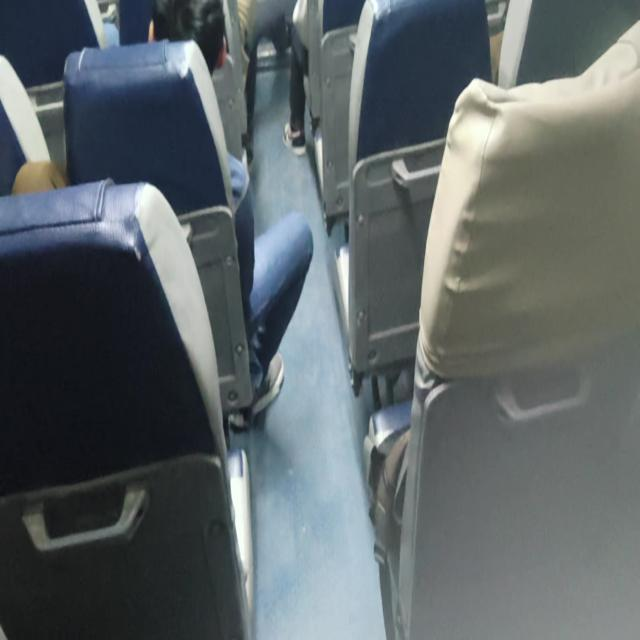person: (148, 1, 314, 423), (283, 0, 308, 156)
